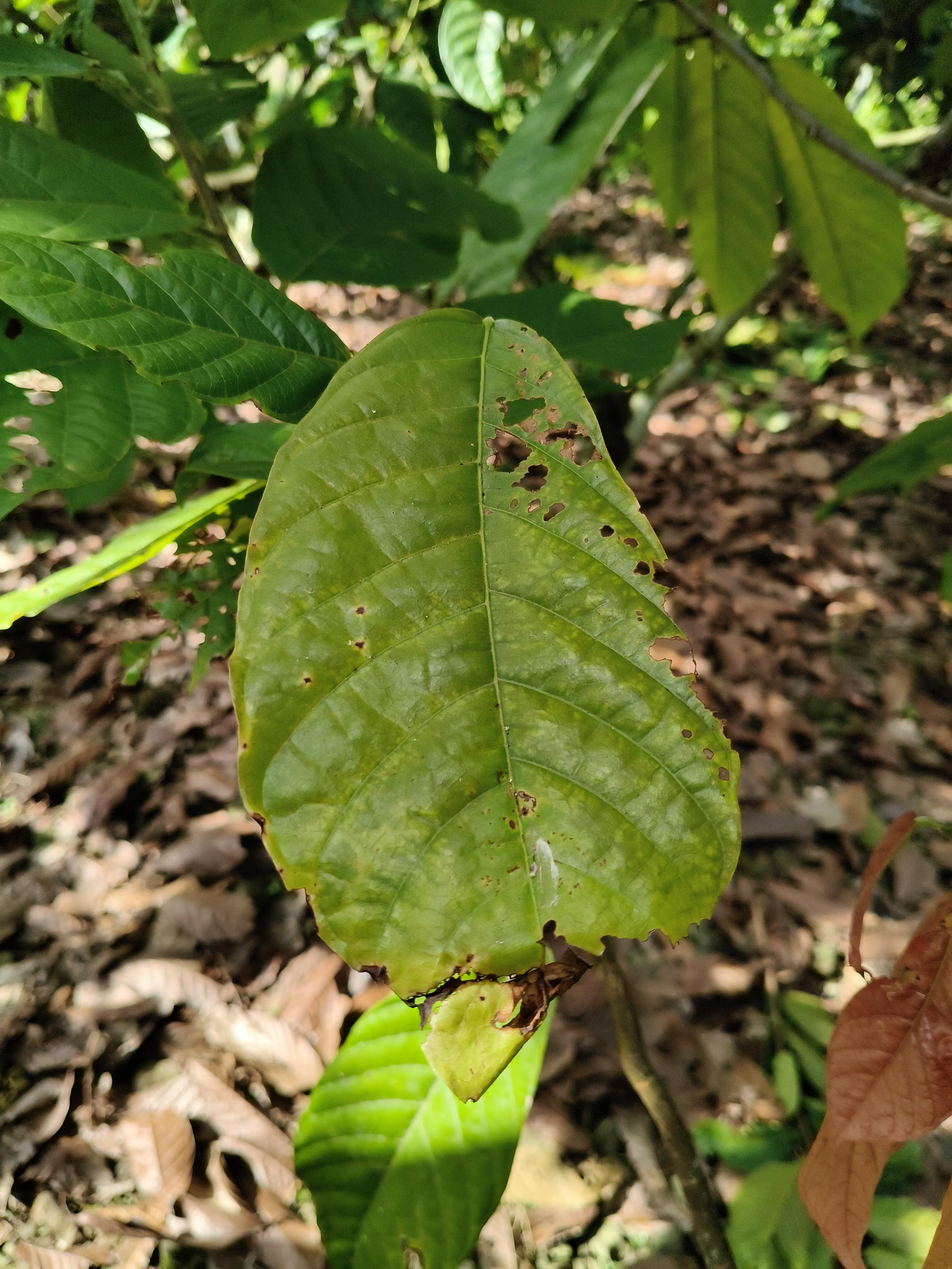deficiencia_potasio: (231, 302, 760, 1029)
